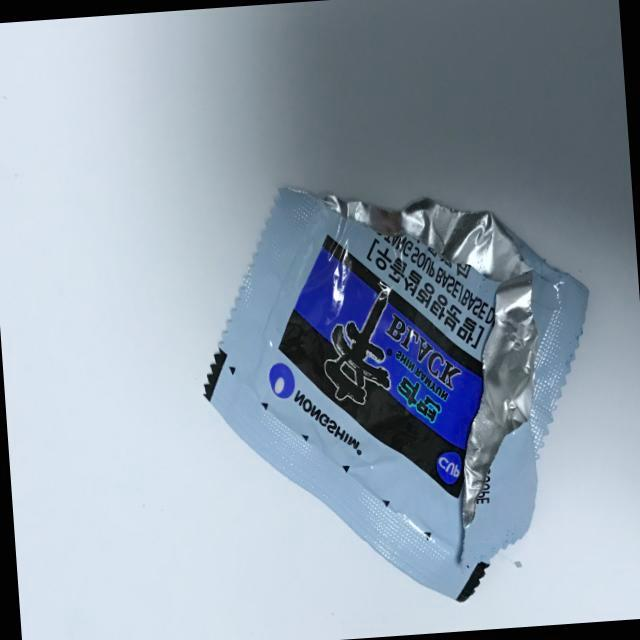plastic: (166, 128, 616, 634)
